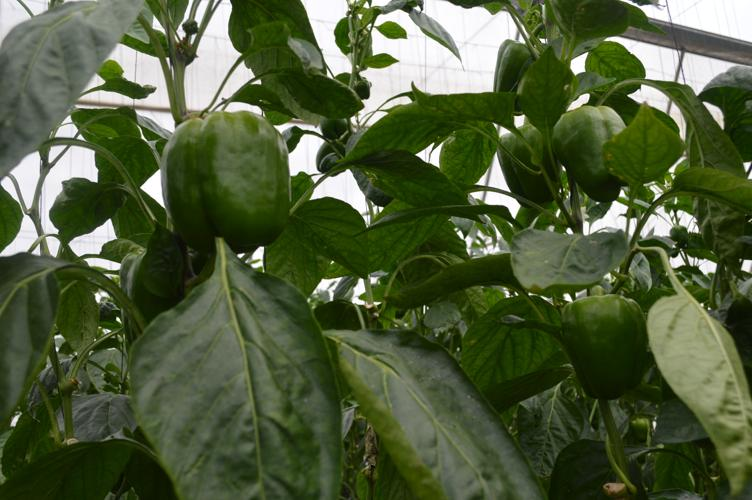BellPepper: (156, 106, 296, 257), (549, 286, 652, 403), (554, 102, 637, 208), (486, 116, 560, 221)
